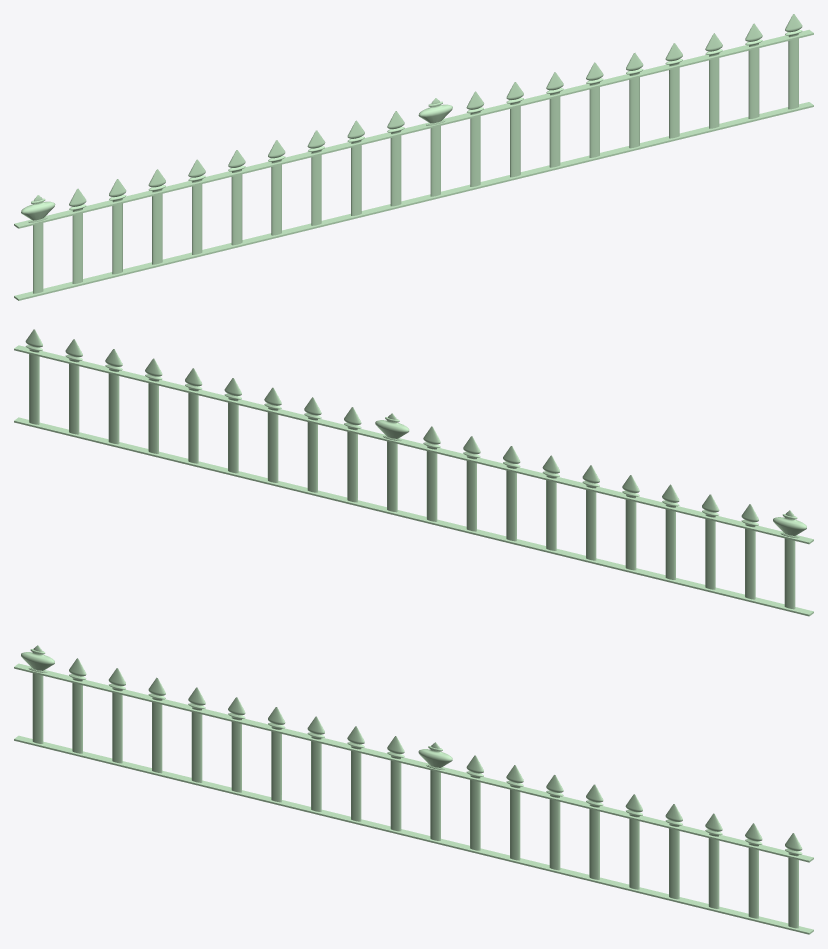
The model's file is Fence.fbx.
The picture shows the model from 3 angles, top to bottom: view 1: azimuth 30°, elevation 25°; view 2: azimuth 150°, elevation 25°; view 3: azimuth 330°, elevation 25°; orthographic projection.
Parts seen in each view (by area): view 1: Fence; view 2: Fence; view 3: Fence.
Boxes of the visible parts, x1,y1,x2,y2 form: Fence: (14,14,813,300); Fence: (14,329,813,616); Fence: (14,645,813,934).
Size of the model in its own units: 500 by 59.48 by 6.61.
